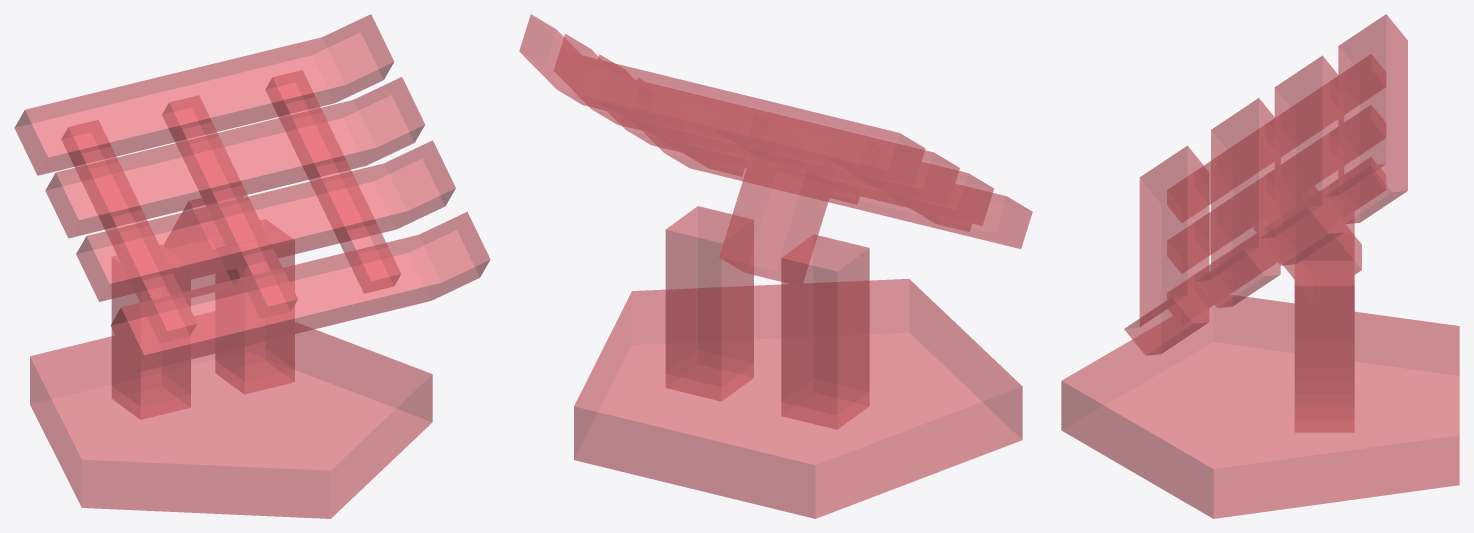
File: satellite_dish.gltf
3 views of the same model, side by side, from view 1: azimuth 30°, elevation 25°; view 2: azimuth 150°, elevation 25°; view 3: azimuth 270°, elevation 25° (orthographic). The views are drawn at different scales.
Parts seen in each view (by area): view 1: Cylinder; view 2: Cylinder; view 3: Cylinder.
Boxes of the visible parts, x1=… form: Cylinder: x1=14, y1=14, x2=490, y2=518; Cylinder: x1=519, y1=14, x2=1032, y2=518; Cylinder: x1=1061, y1=14, x2=1459, y2=518.
Bounding box in the file's own units: 31.71 × 28.95 × 28.94.
